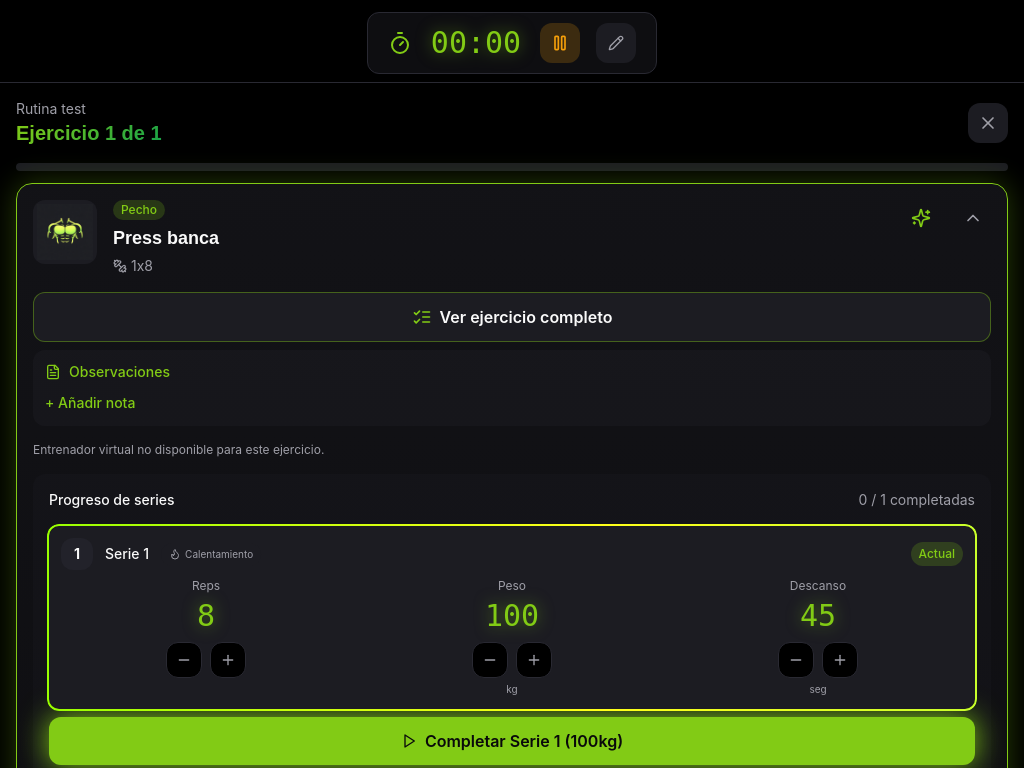
Test case: secuencia de la cartela de récord personal › no reaparece al omitir el descanso
Click the button "Completar Serie 1 (100kg)" at (512, 741), box [49,717,975,765]
(page scrolled)
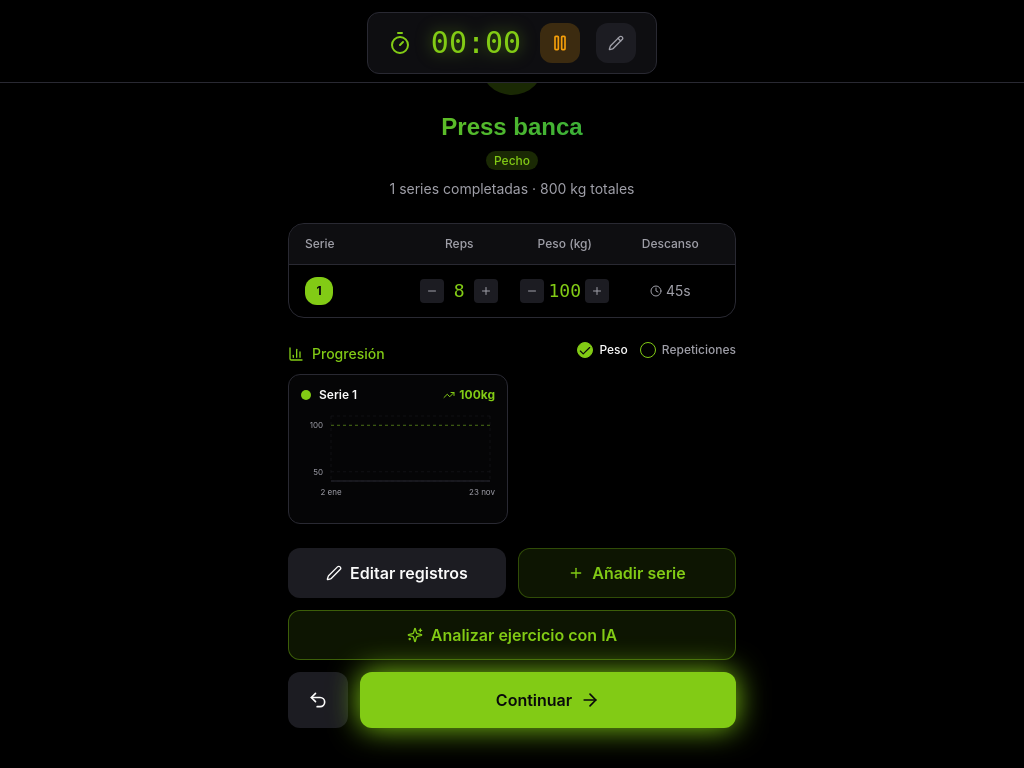
Click the button "Continuar" at (548, 700), box [360,672,736,728]
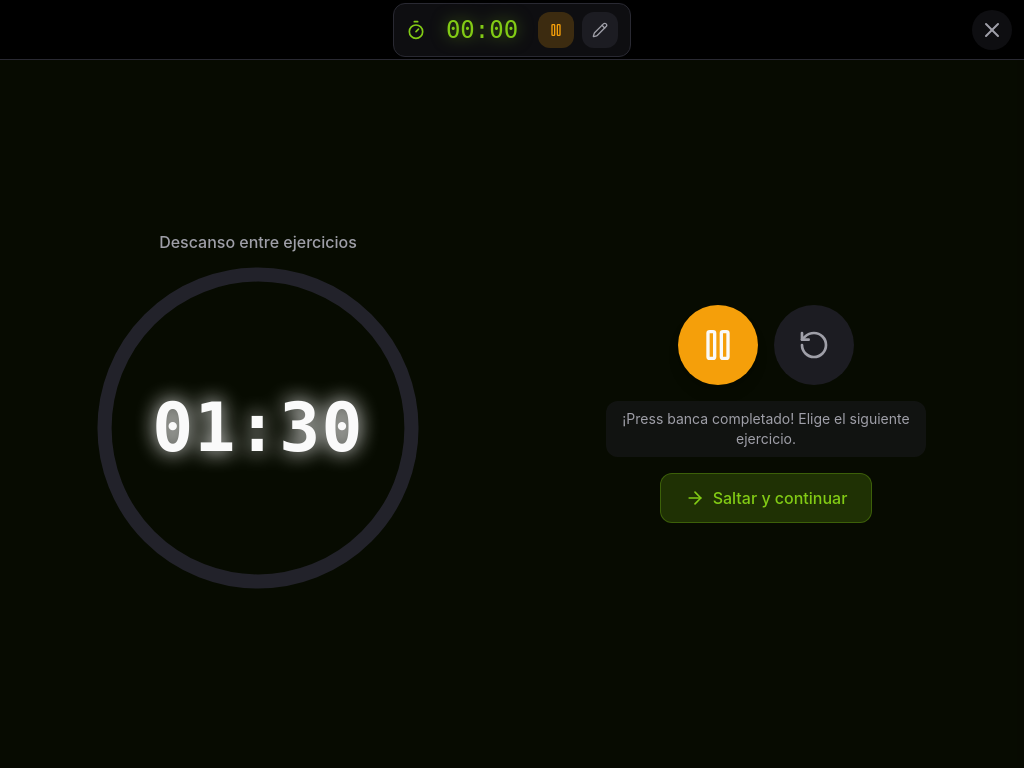
Expected: the heading "¡RÉCORD PERSONAL!" is shown, [372,335,652,362]
Click the button "Saltar y continuar" at (766, 498), box [660,473,872,523]
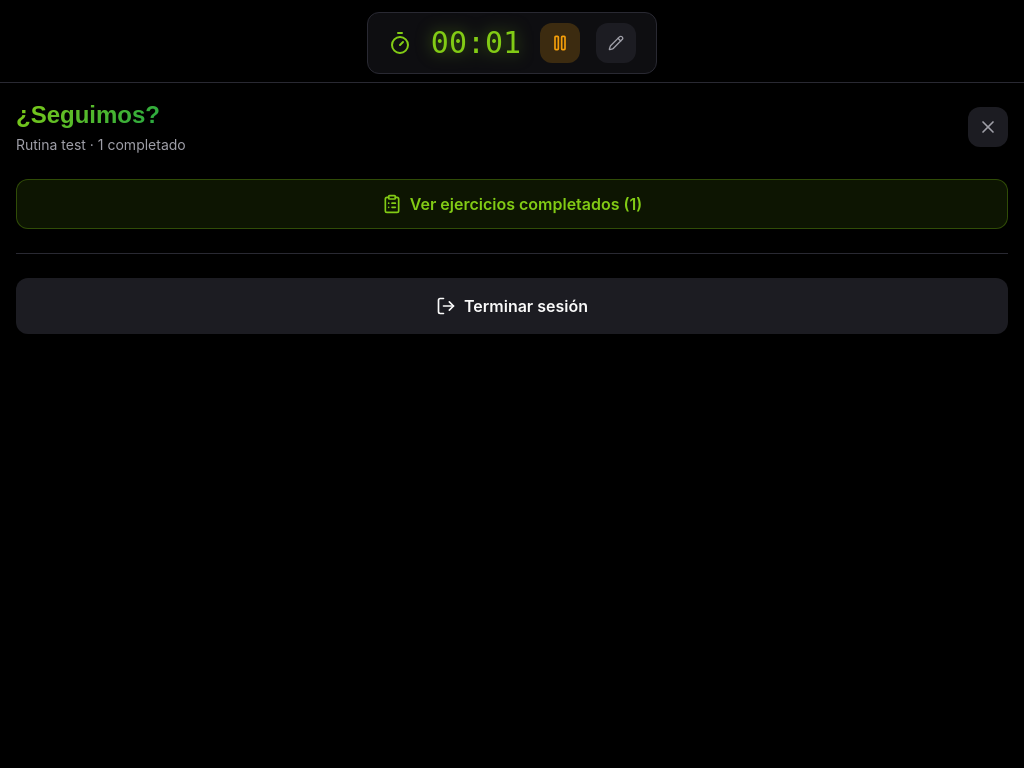
Expected: the heading "RÉCORD PERSONAL" is gone
